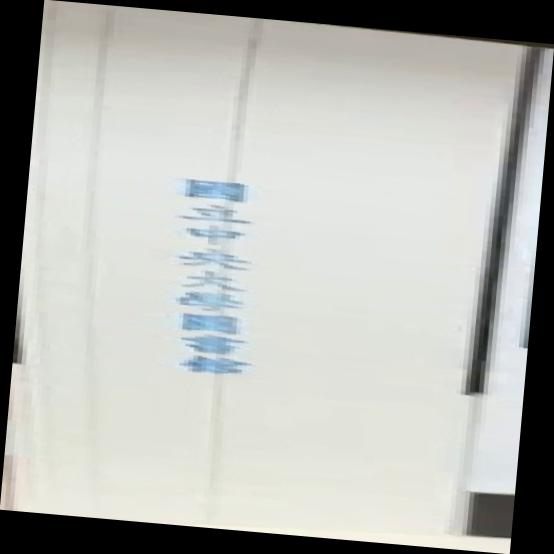backward: (3, 1, 554, 554)
